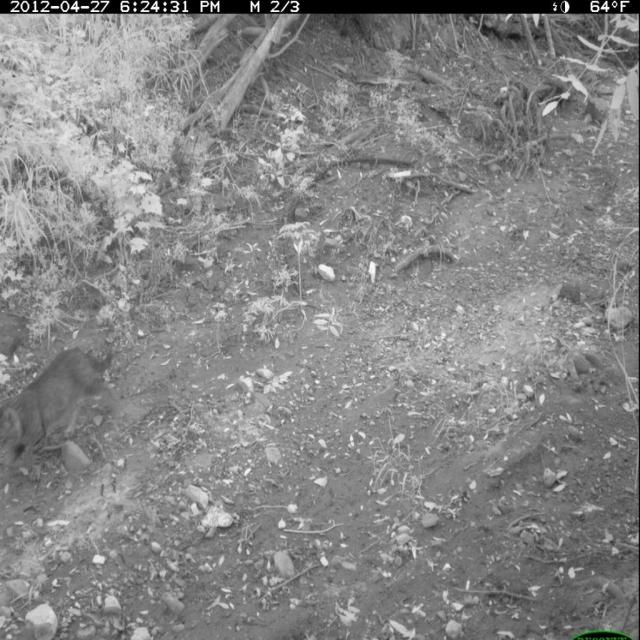cat: (1, 334, 134, 474)
